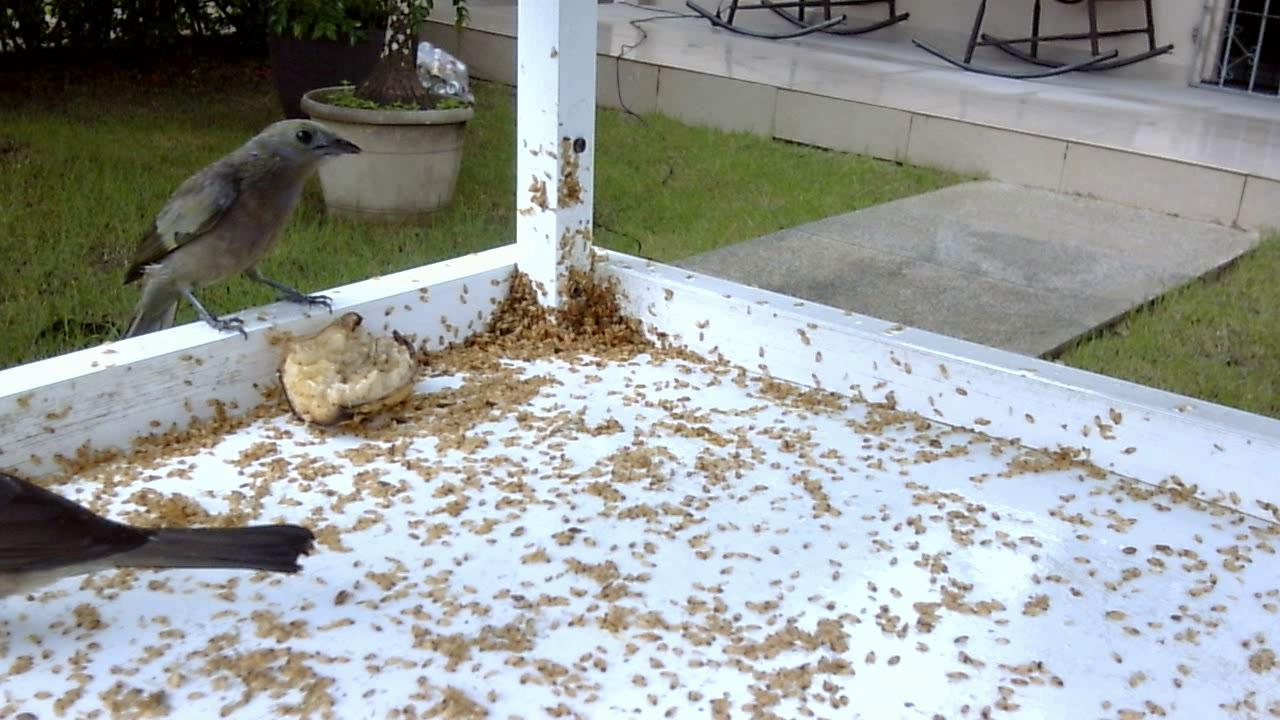sanhaco_do_coqueiro: (118, 116, 367, 360), (1, 460, 324, 621)
